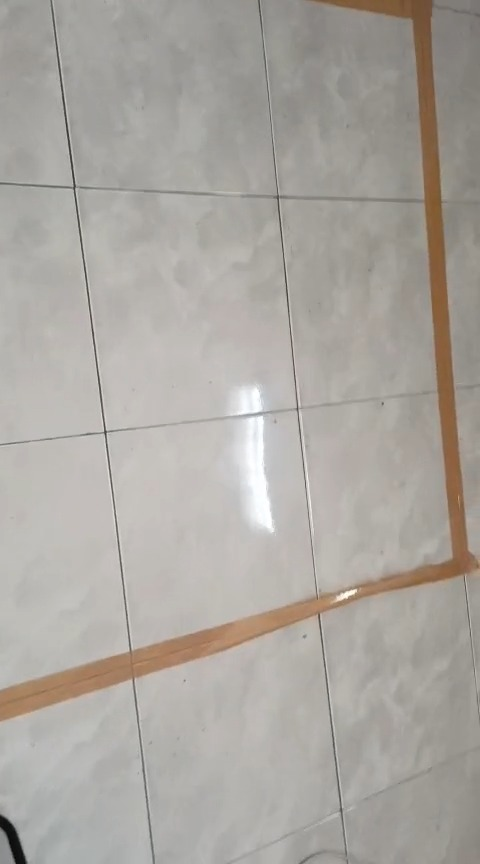floor marking: (0, 0, 479, 719)
